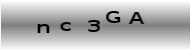3: (85, 19, 101, 33)
A: (128, 10, 145, 26)
G: (104, 10, 122, 24)
c: (58, 21, 72, 31)
n: (35, 23, 51, 35)
